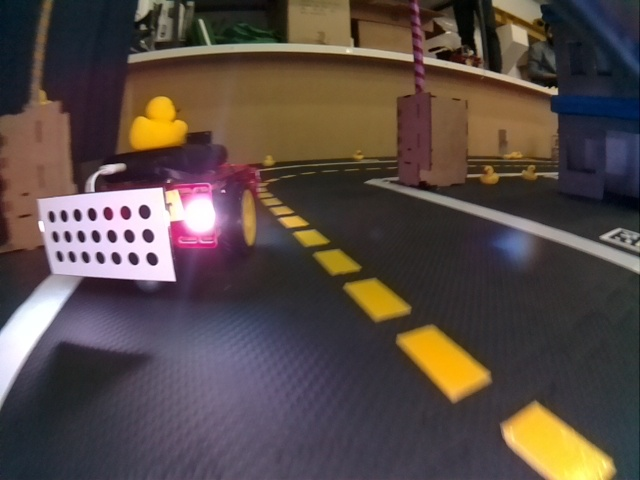Duckie: (130, 96, 187, 148), (481, 167, 497, 183), (523, 166, 536, 179), (264, 156, 274, 166), (354, 149, 362, 159)
Duckiebot: (41, 147, 258, 283)
QR code: (602, 228, 639, 249)
